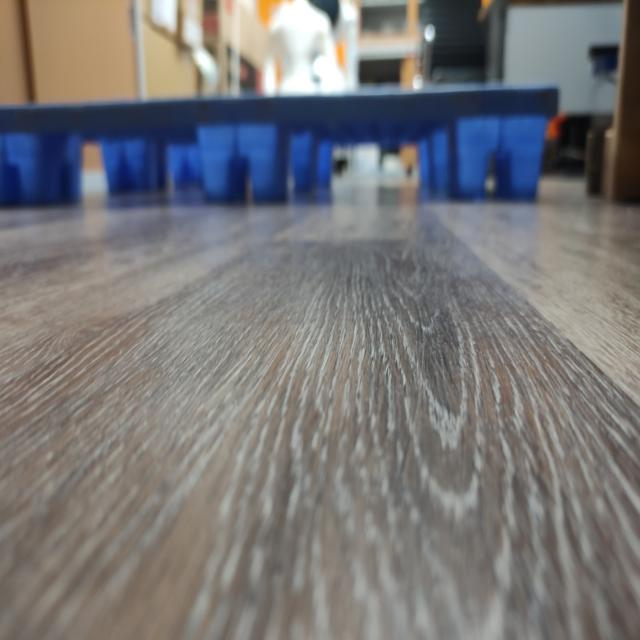block: (454, 124, 550, 197), (202, 126, 284, 204), (99, 132, 162, 194)
front: (0, 86, 562, 217)
